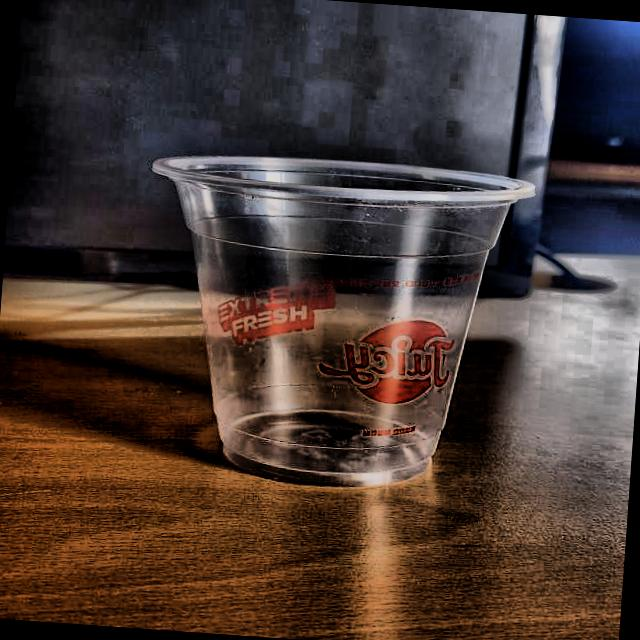plastic cup: (136, 145, 537, 498)
